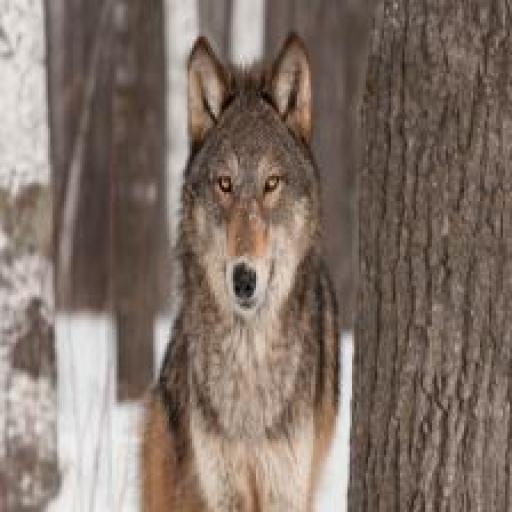wolf: (137, 11, 351, 512)
